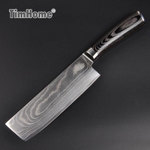knief: (2, 13, 145, 134)
